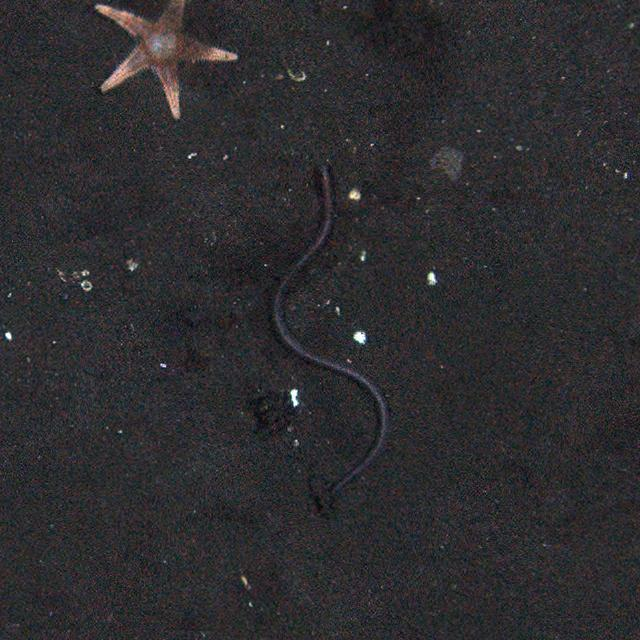eel: (270, 164, 392, 500)
